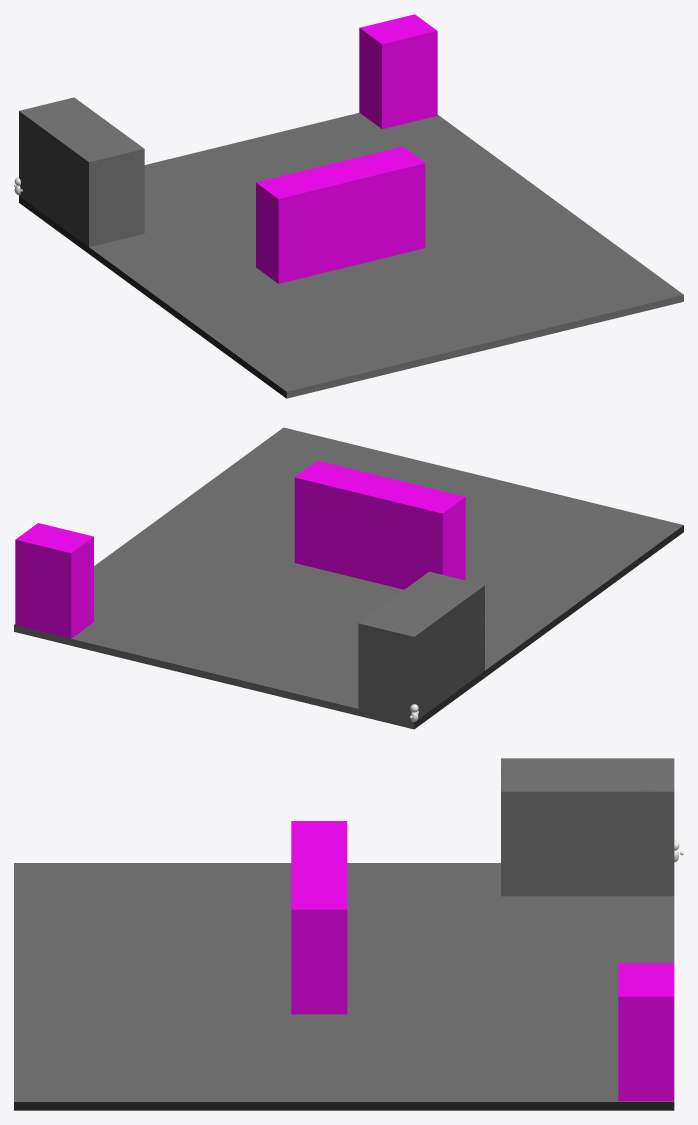
The model's file is ThirdPersonMap.gltf.
The picture shows the model from 3 angles, top to bottom: view 1: azimuth 30°, elevation 25°; view 2: azimuth 150°, elevation 25°; view 3: azimuth 270°, elevation 25°; orthographic projection. The views are drawn at different scales.
Parts seen in each view (by area): view 1: floor, wall3, wall, wall2; view 2: floor, wall3, wall, wall2; view 3: floor, wall, wall3, wall2.
Boxes of the visible parts, x1,y1,x2,y2 form: floor: (19,112,683,398); wall3: (256,146,425,283); wall: (19,97,144,247); wall2: (359,14,437,129); floor: (14,427,683,729); wall3: (294,461,465,589); wall: (358,571,484,722); wall2: (15,523,93,638); floor: (14,863,674,1110); wall: (501,758,674,896); wall3: (291,821,347,1014); wall2: (618,963,674,1101).
Size of what is drawn, in the model's own units: 30.28 by 6.63 by 35.52.
Materials: 5 (2 with a texture image).
